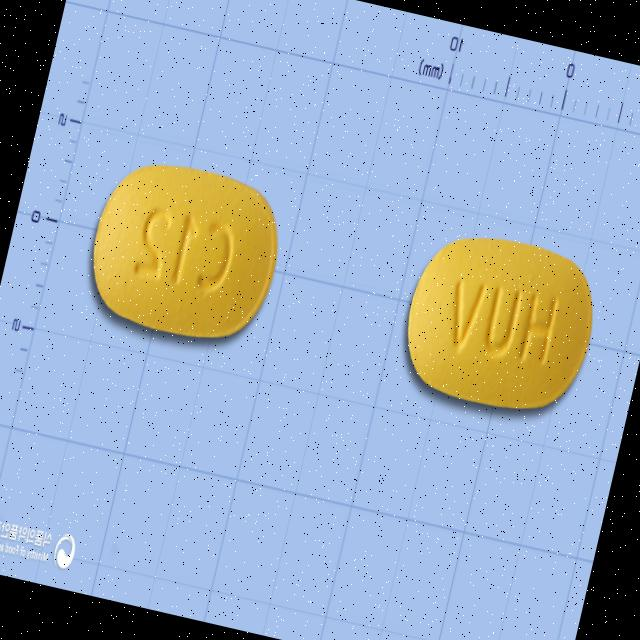Clavit: (386, 216, 607, 432), (73, 145, 294, 361)
